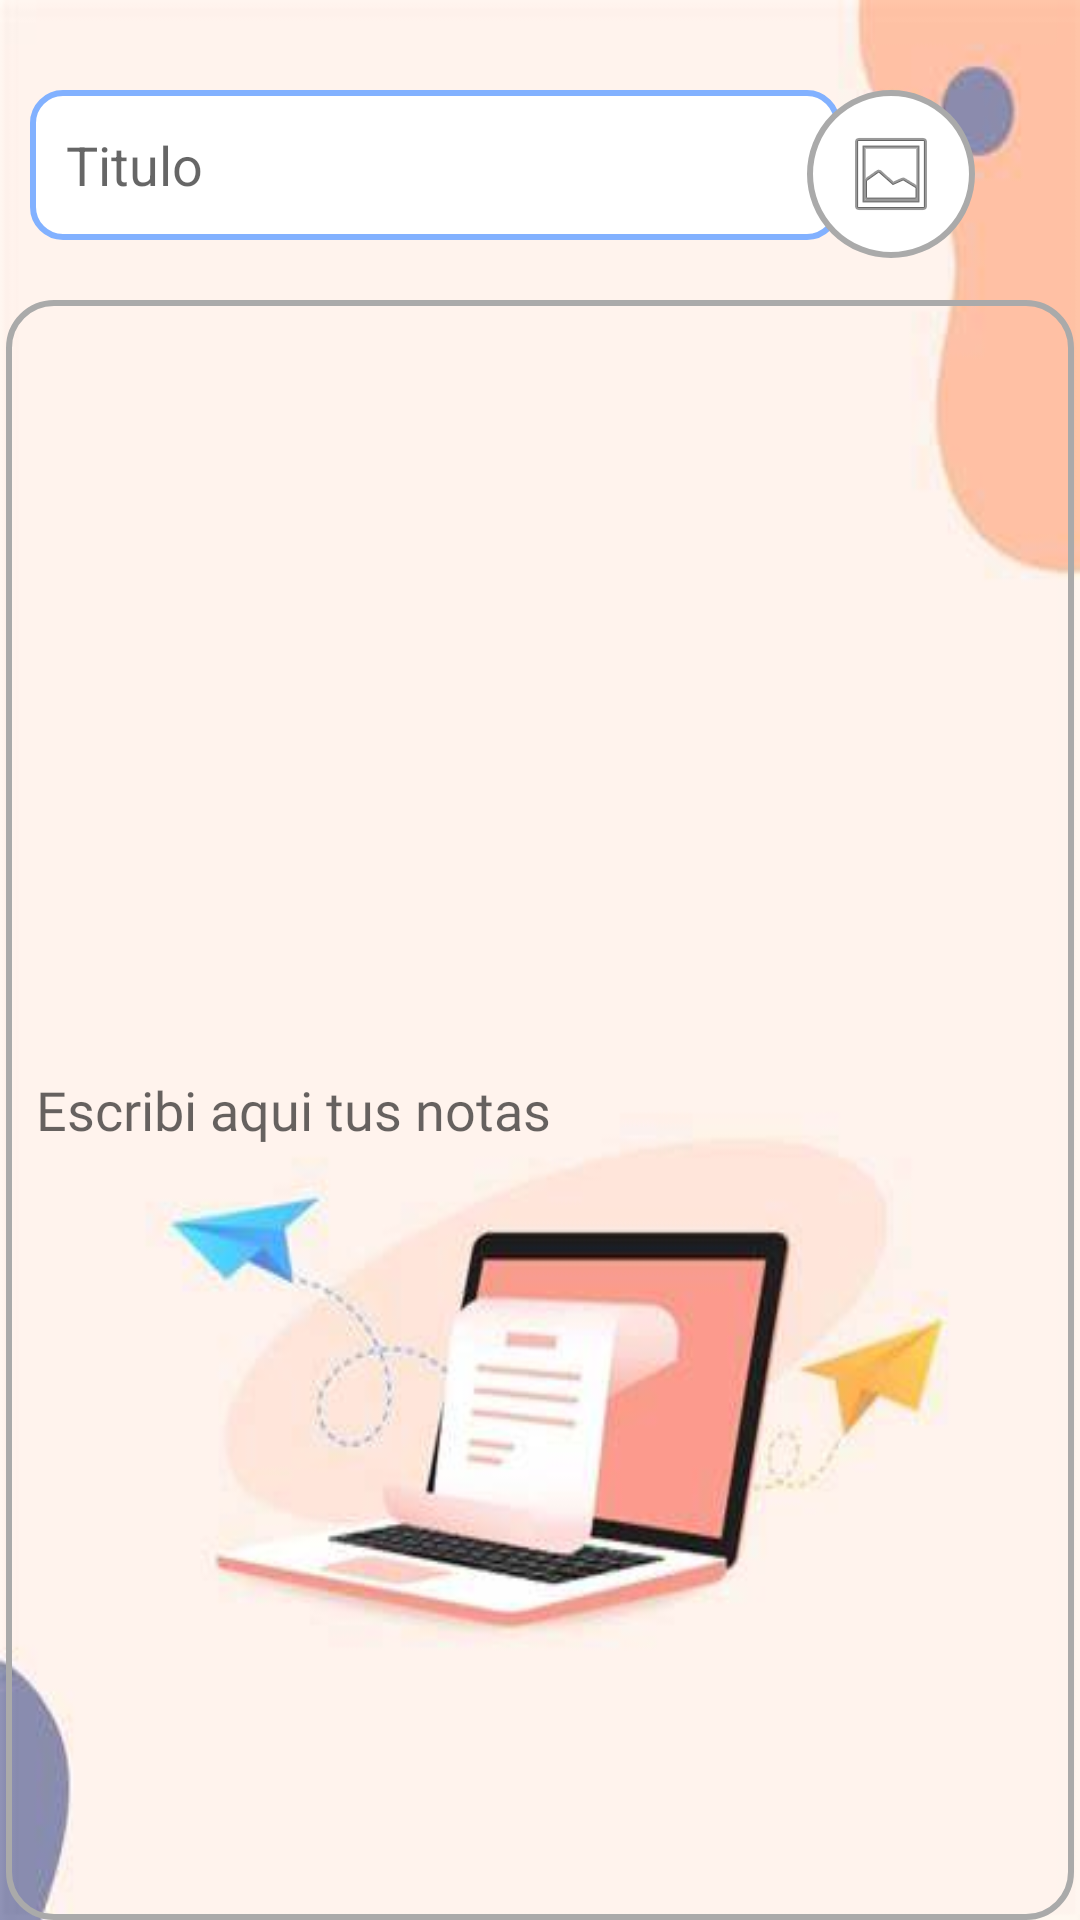

Named icons in this screenshot (1080px×1920px) and their centers, [x,y]:
Agregar Imágenes: [891,174]
